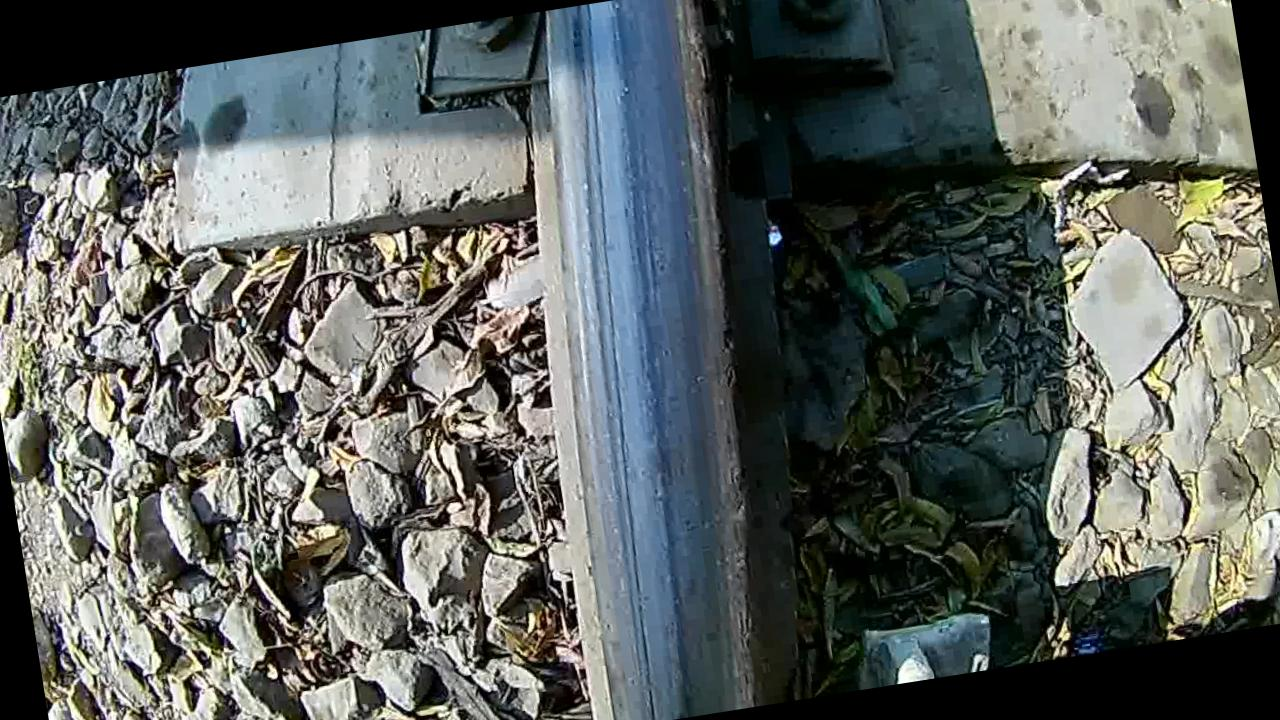clip_missing: (487, 0, 813, 720)
